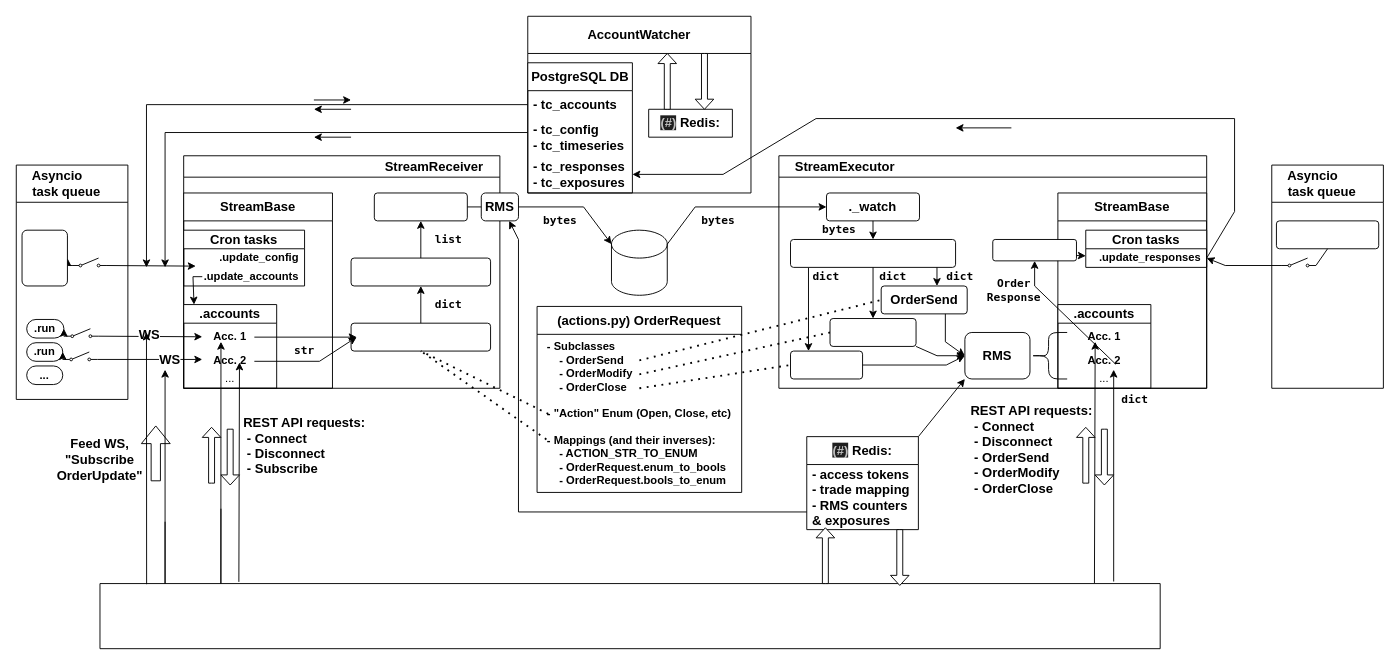
Image size: 1400x665. Some labels were removed from this diagram. Each missing label, with the centre of its shape:
"._on_message_ws" goes at point 420,271.
"._parse_message_zmq" goes at point 873,253.
".parse_message_ws" goes at point 420,336.
".responses" goes at point 1034,250.
".run _cron _tasks" goes at point 44,257.
".run_cron_tasks" goes at point 1327,234.
".socket.send" goes at point 420,206.
"OrderClose" goes at point 826,364.
"OrderModify" goes at point 872,332.
"Trading REST/WS API" goes at point 629,616.
"ZMQ" goes at point 639,262.
